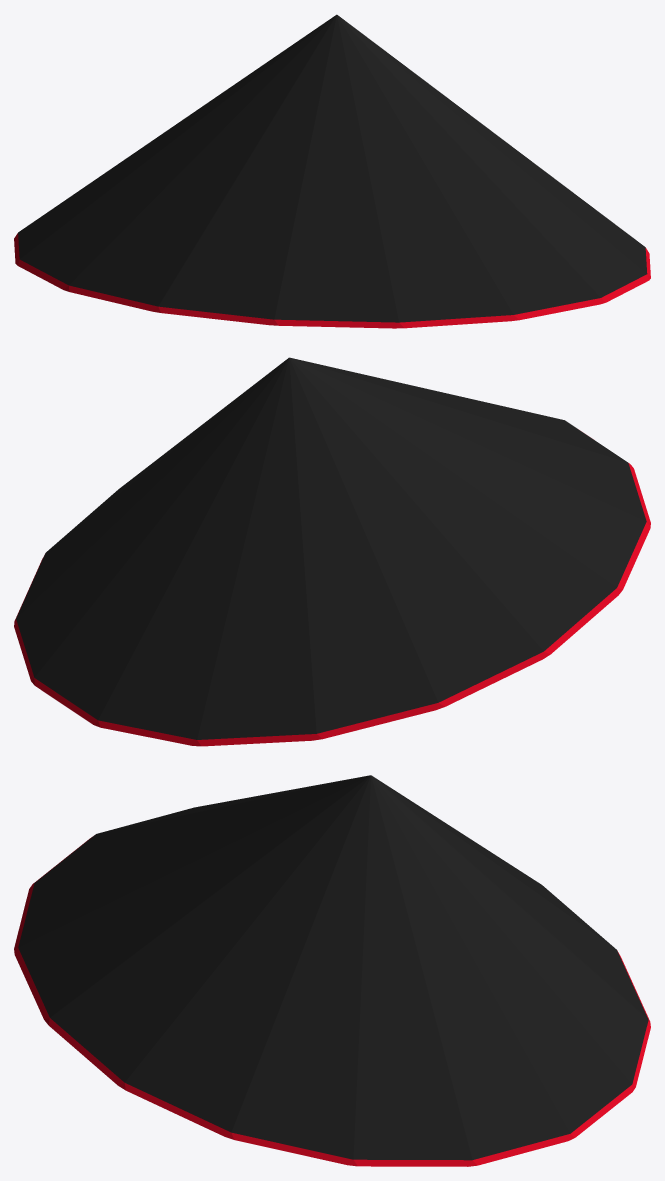
The model's file is ninjahat_basic.glb.
The picture shows the model from 3 angles, top to bottom: view 1: azimuth 30°, elevation 25°; view 2: azimuth 150°, elevation 25°; view 3: azimuth 270°, elevation 25°; orthographic projection.
Visible parts, largest first — view 1: 0.097, 1.060; view 2: 0.097, 1.060; view 3: 0.097, 1.060.
Part boxes in pixels (<box>): 0.097: <box>18,14,647,322</box>; 1.060: <box>14,233,650,328</box>; 0.097: <box>16,357,646,739</box>; 1.060: <box>14,463,650,746</box>; 0.097: <box>18,775,648,1160</box>; 1.060: <box>14,836,650,1166</box>.
Size of the model in its own units: 0.7142 by 0.3555 by 0.7104.
